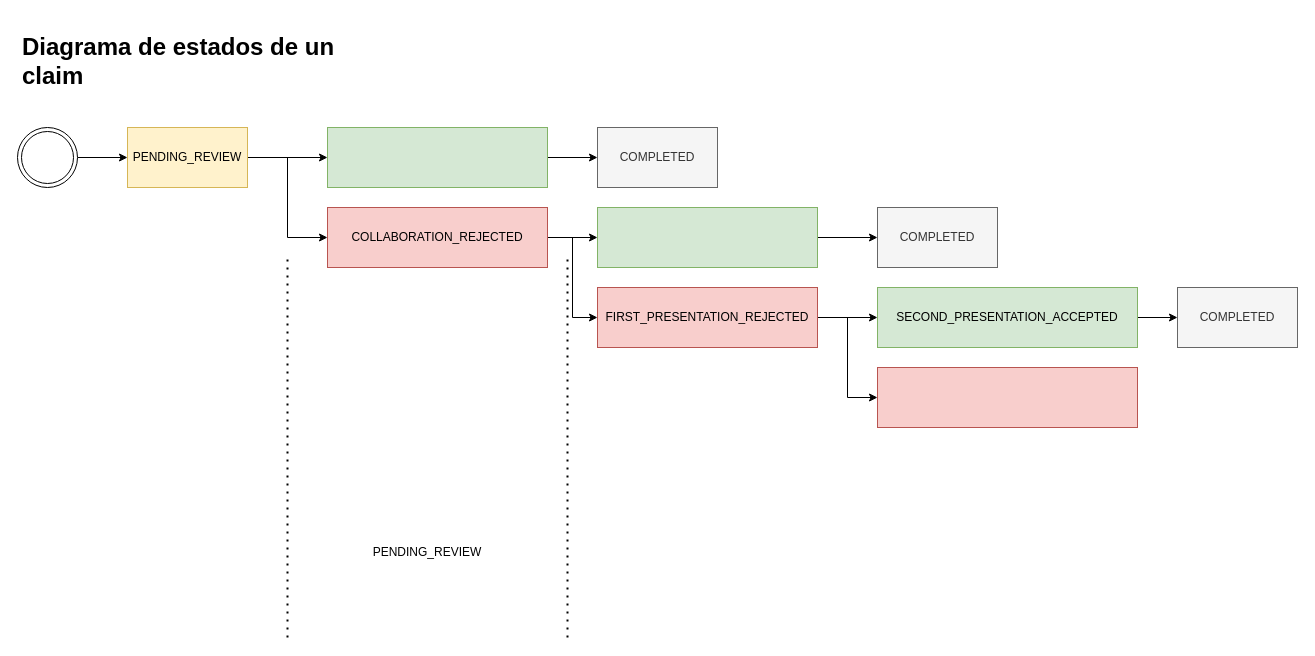
Image size: 1315x656. Some labels were removed from this diagram. Here are the shapes that lost their labels. From the top down, the centre of each, then its label:
point 437,157: COLLABORATION_ACCEPTED
point 707,237: FIRST_PRESENTATION_ACCEPTED
point 1007,397: SECOND_PRESENTATION_REJECTED
